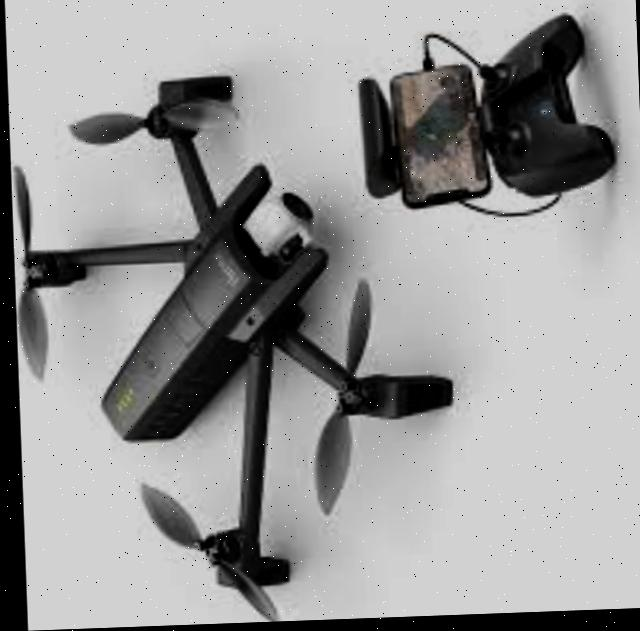drone: (7, 53, 470, 626)
